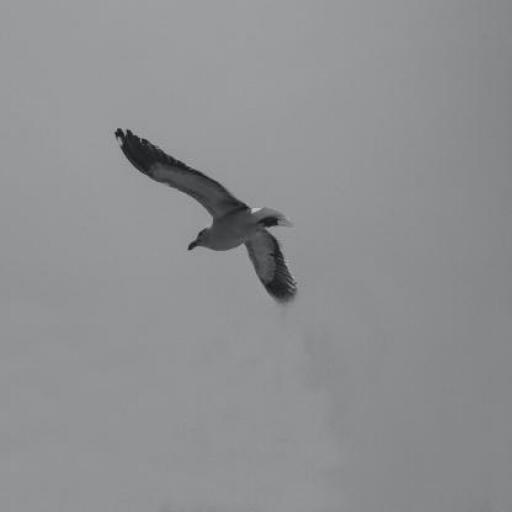bird: (114, 128, 297, 300)
